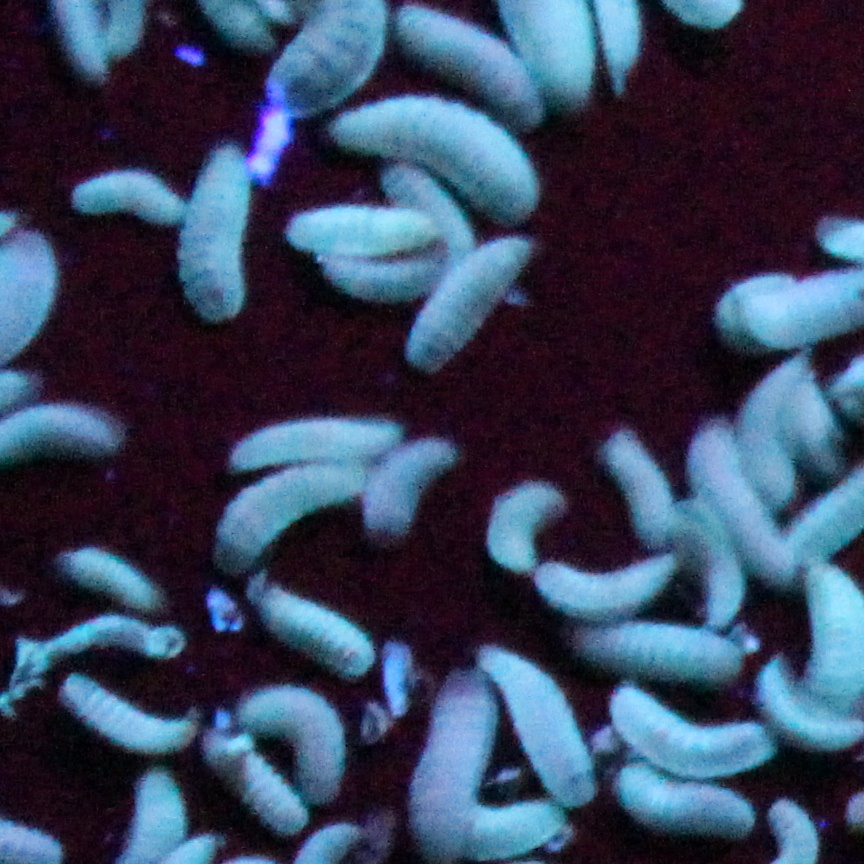larve: (335, 90, 545, 219), (484, 645, 597, 822), (692, 421, 799, 587), (403, 6, 548, 119), (404, 246, 528, 378), (602, 678, 775, 770), (216, 461, 368, 558), (235, 677, 348, 806), (177, 138, 258, 316), (58, 664, 203, 761), (616, 761, 758, 845), (248, 587, 371, 677), (746, 353, 809, 507), (364, 441, 461, 538), (232, 416, 403, 470), (599, 436, 675, 548), (287, 203, 451, 254), (533, 558, 682, 614), (58, 541, 164, 616), (326, 254, 461, 309), (489, 478, 565, 570), (687, 514, 743, 626), (64, 170, 174, 225)
